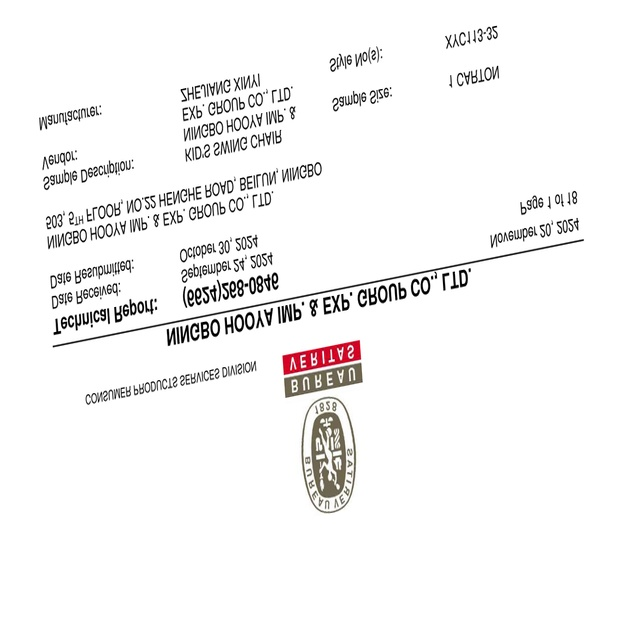bureau_veritas: (282, 338, 362, 513)
